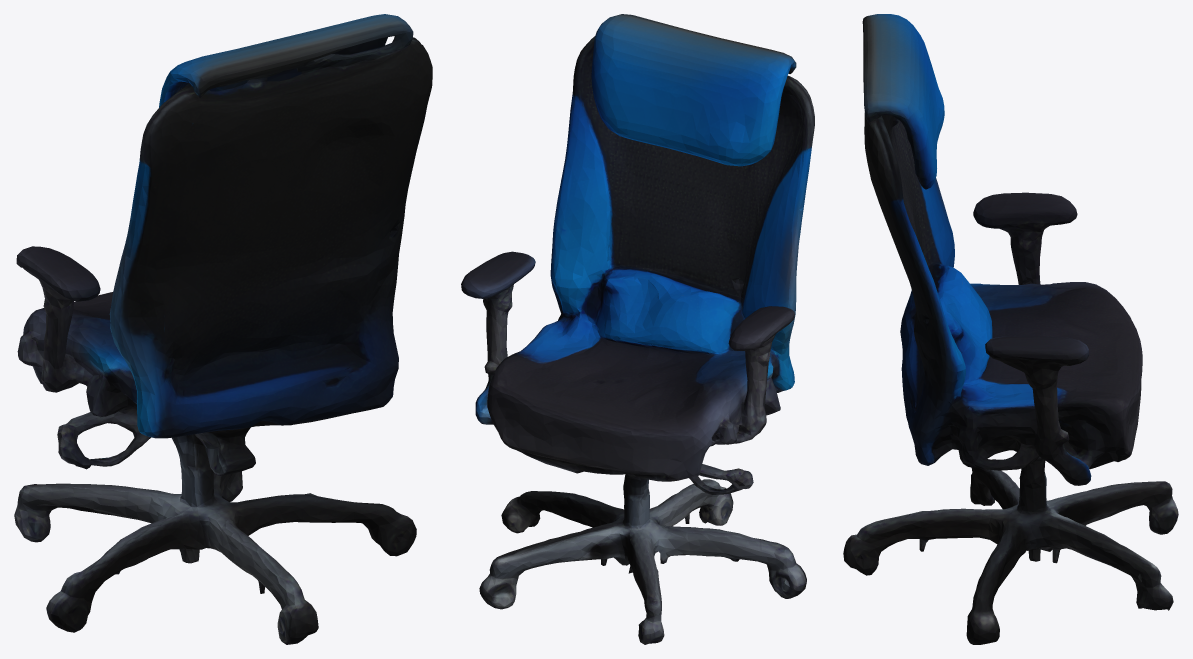
Rendered from Chair7.glb.
3 views of the same model, side by side, from view 1: azimuth 30°, elevation 25°; view 2: azimuth 150°, elevation 25°; view 3: azimuth 270°, elevation 25° (orthographic). The views are drawn at different scales.
Parts seen in each view (by area): view 1: world; view 2: world; view 3: world.
Boxes of the visible parts, x1,y1,x2,y2 form: world: (14,14,432,644); world: (461,14,814,644); world: (843,14,1178,644).
Size of the model in its own units: 0.6486 by 1 by 0.5855.
Materials: 1 (1 with a texture image).
